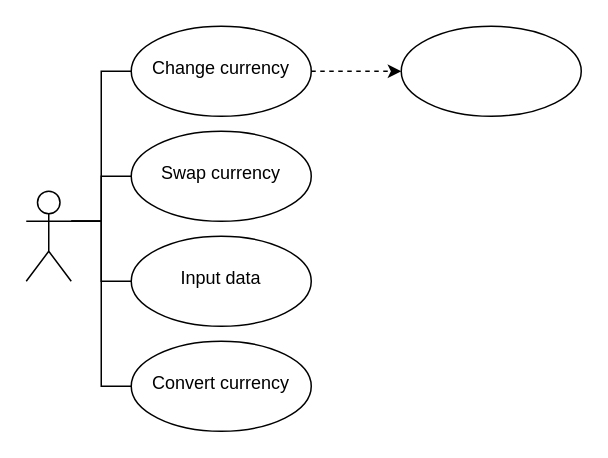
Some shapes in this 608 by 458 pixel diagram are drawn without their labels. Here are the shapes that lost their labels. From the top down, the centre of each, then its label:
At point 490,70: "Select new currency".
At point 48,235: "User".
